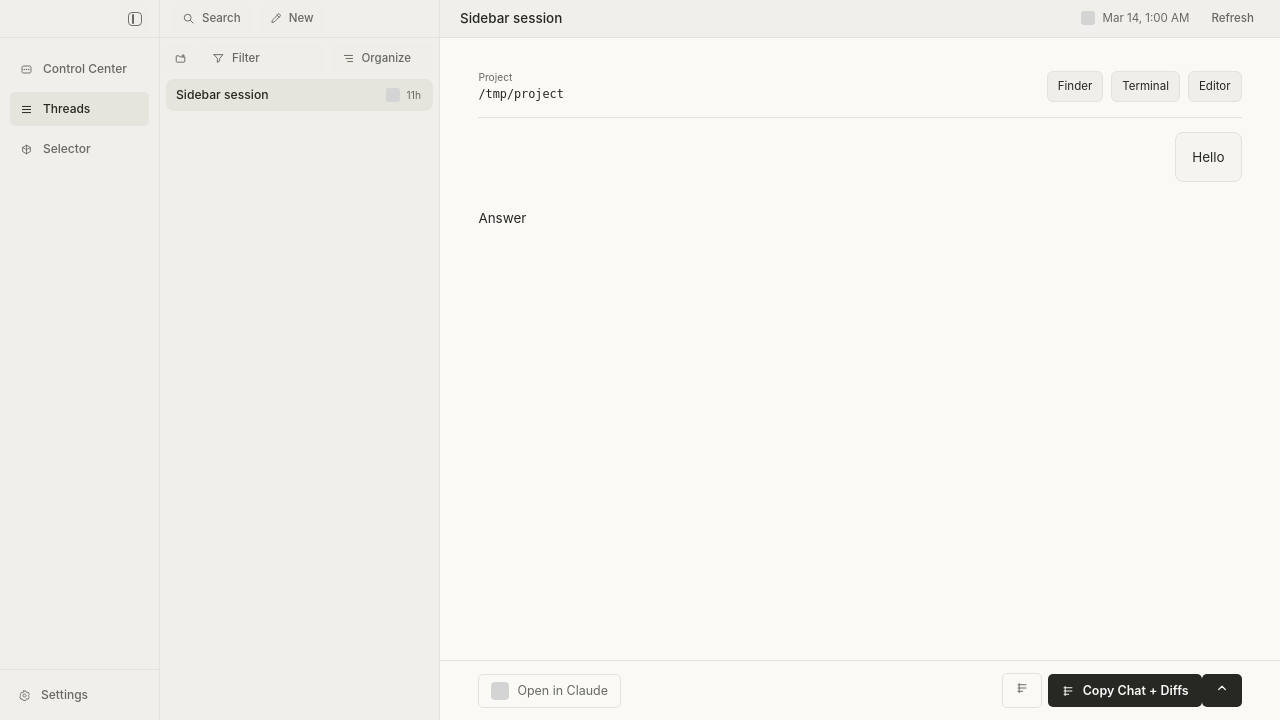
Test: Handoff App › collapses and expands the sidebar session list
The image size is (1280, 720).
Expected: the button "Sidebar session 11h" is shown, top-left (166, 79), bottom-right (433, 111)
Step 1. Click the button named "Collapse sidebar" → (135, 18), box top-left (121, 4), bottom-right (149, 32)
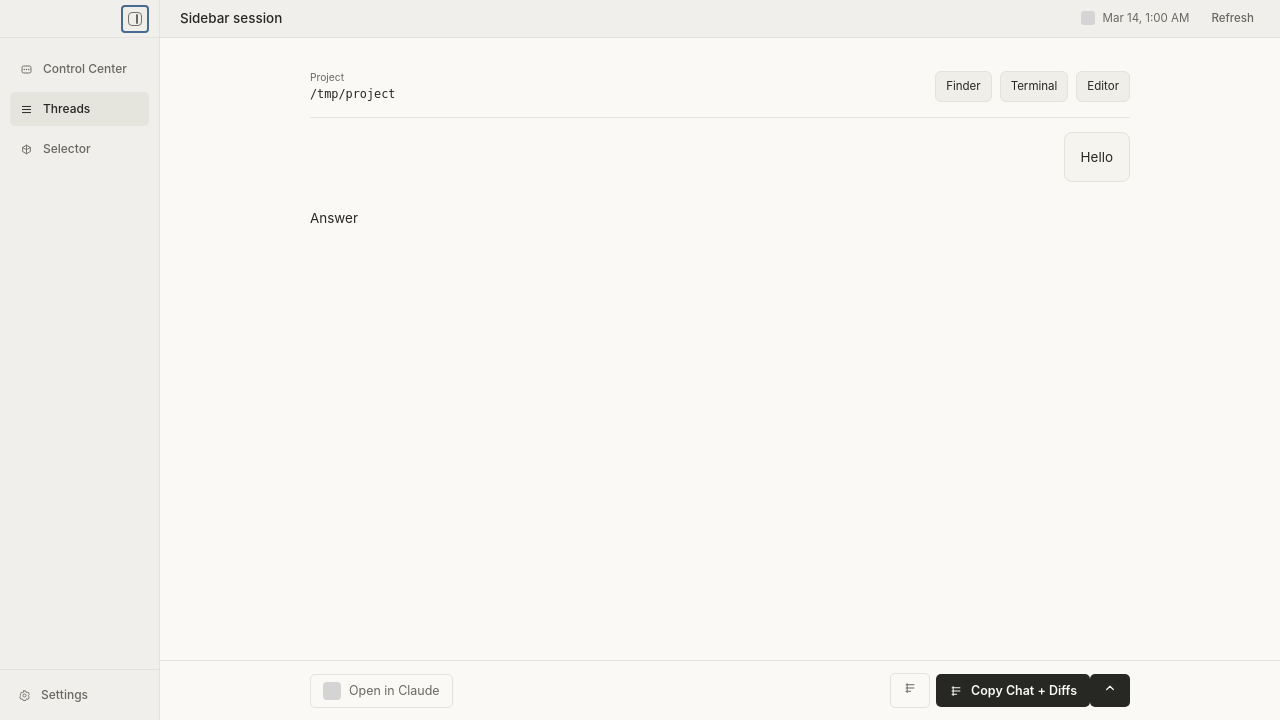
Step 2. Click the button named "Expand sidebar" → (135, 18), box top-left (121, 4), bottom-right (149, 32)
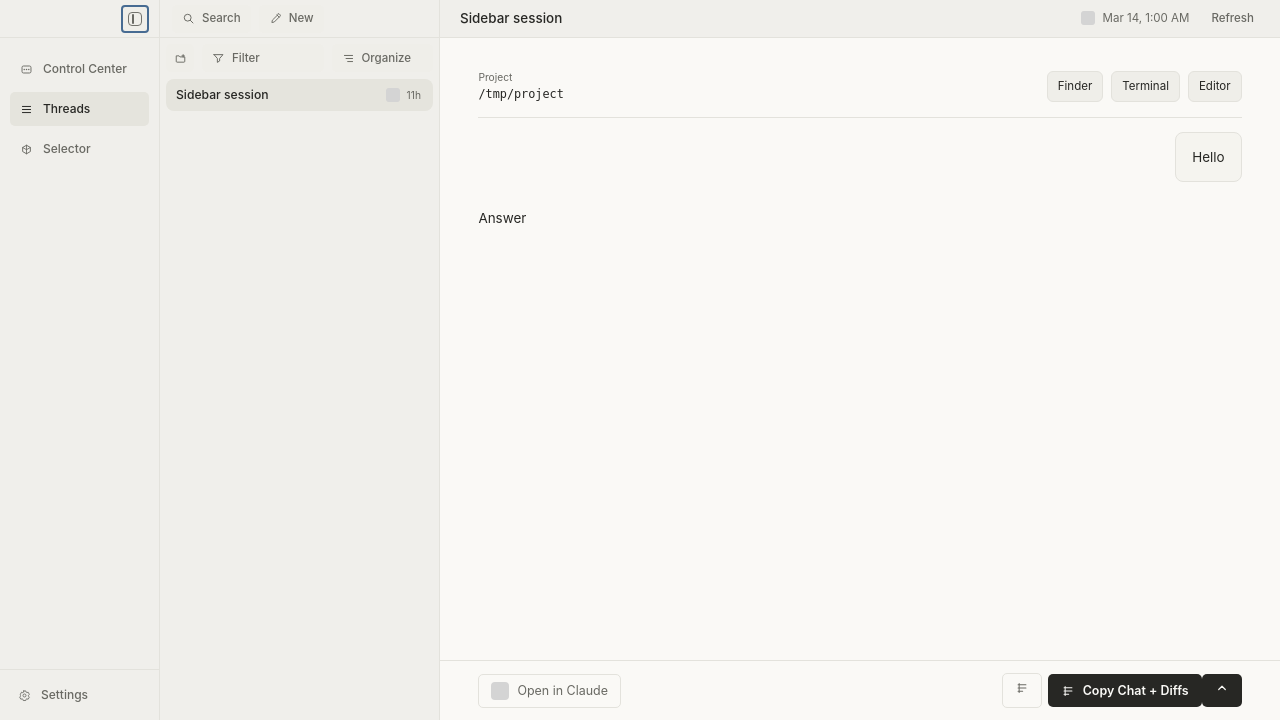
Expected: the button "Sidebar session 11h" is shown, top-left (166, 79), bottom-right (433, 111)
